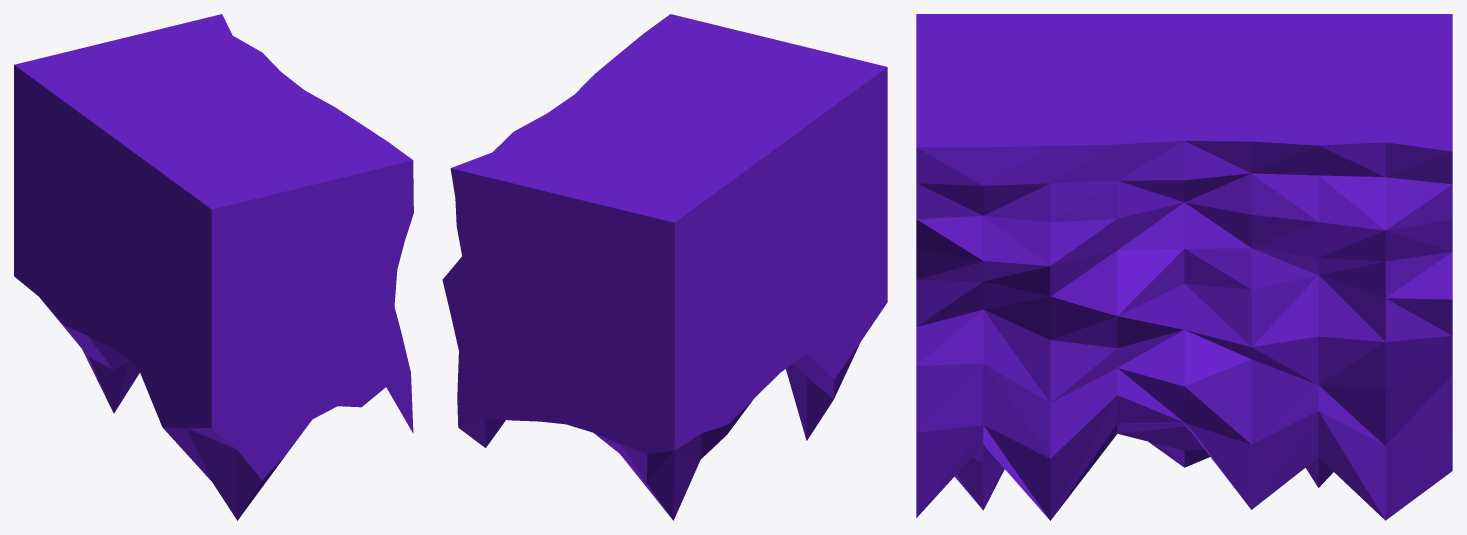
The picture shows the model from 3 angles, left to right: view 1: azimuth 30°, elevation 25°; view 2: azimuth 150°, elevation 25°; view 3: azimuth 270°, elevation 25°; orthographic projection. The views are drawn at different scales.
Parts seen in each view (by area): view 1: Cube; view 2: Cube; view 3: Cube.
Boxes of the visible parts, left/top/right/bottom form: Cube: left=14, top=14, right=413, bottom=520; Cube: left=442, top=14, right=887, bottom=520; Cube: left=916, top=14, right=1452, bottom=520.
Size of the model in its own units: 2.39 by 3.24 by 3.4.
